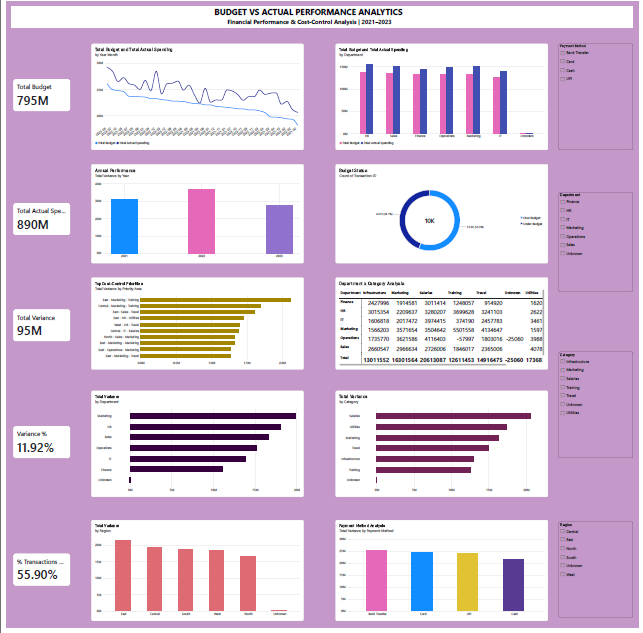

The page's visual inventory and layout, read from the dashboard file:
{"tool":"powerbi","page":{"name":"Page 1","canvas":[2855,2830],"ordinal":0},"visuals":[{"type":"textbox","box":[24,24,2808,96],"z":0},{"type":"cardVisual","fields":{"Data":["Budget_vs_Actual_Cleaned.Total Budget"]},"box":[32,352,256,144],"z":1000},{"type":"cardVisual","fields":{"Data":["Budget_vs_Actual_Cleaned.Total Actual Spending"]},"box":[32,912,256,144],"z":2000},{"type":"cardVisual","fields":{"Data":["Budget_vs_Actual_Cleaned.Total Variance"]},"box":[32,1392,256,144],"z":3000},{"type":"cardVisual","fields":{"Data":["Budget_vs_Actual_Cleaned.Variance %"]},"box":[32,1920,256,144],"z":4000},{"type":"cardVisual","fields":{"Data":["Budget_vs_Actual_Cleaned.% Transactions Over Budget"]},"box":[32,2496,256,144],"z":5000},{"type":"slicer","fields":{"Values":["Budget_vs_Actual_Cleaned.Department"]},"box":[2496,864,336,448],"z":6000},{"type":"slicer","fields":{"Values":["Budget_vs_Actual_Cleaned.Category"]},"box":[2496,1584,336,480],"z":7000},{"type":"slicer","fields":{"Values":["Budget_vs_Actual_Cleaned.Region"]},"box":[2496,2352,336,432],"z":8000},{"type":"slicer","fields":{"Values":["Budget_vs_Actual_Cleaned.Payment Method"]},"box":[2496,192,336,480],"z":9000},{"type":"lineChart","fields":{"Category":["DateTable.Year Month"],"Y":["Budget_vs_Actual_Cleaned.Total Budget","Budget_vs_Actual_Cleaned.Total Actual Spending"]},"box":[384,192,960,480],"z":10000},{"type":"clusteredBarChart","fields":{"Category":["Budget_vs_Actual_Cleaned.Department"],"Y":["Budget_vs_Actual_Cleaned.Total Variance"]},"box":[384,1760,960,480],"z":11000},{"type":"clusteredBarChart","fields":{"Category":["Budget_vs_Actual_Cleaned.Category"],"Y":["Budget_vs_Actual_Cleaned.Total Variance"]},"box":[1488,1760,960,480],"z":12000},{"type":"clusteredColumnChart","fields":{"Category":["Budget_vs_Actual_Cleaned.Department"],"Y":["Budget_vs_Actual_Cleaned.Total Budget","Budget_vs_Actual_Cleaned.Total Actual Spending"]},"box":[1488,192,960,480],"z":13000},{"type":"clusteredColumnChart","fields":{"Category":["Budget_vs_Actual_Cleaned.Region"],"Y":["Budget_vs_Actual_Cleaned.Total Variance"]},"box":[384,2344,960,456],"z":14000},{"type":"pivotTable","title":"Department x Category  Analysis","fields":{"Columns":["Budget_vs_Actual_Cleaned.Category"],"Rows":["Budget_vs_Actual_Cleaned.Department"],"Values":["Budget_vs_Actual_Cleaned.Total Variance"]},"box":[1488,1248,960,416],"z":15000},{"type":"barChart","title":"Top Cost-Control Priorities","fields":{"Category":["Budget_vs_Actual_Cleaned.Priority Area"],"Y":["Budget_vs_Actual_Cleaned.Total Variance"]},"box":[384,1248,960,416],"z":16000},{"type":"clusteredColumnChart","title":"Annual Performance","fields":{"Category":["DateTable.Year"],"Y":["Budget_vs_Actual_Cleaned.Total Variance"]},"box":[384,736,960,448],"z":17000},{"type":"donutChart","title":"Budget Status","fields":{"Category":["Budget_vs_Actual_Cleaned.Budget Status"],"Y":["CountNonNull(Budget_vs_Actual_Cleaned.Transaction ID)"]},"box":[1488,736,960,448],"z":18000},{"type":"clusteredColumnChart","title":"Payment Method Analysis","fields":{"Category":["Budget_vs_Actual_Cleaned.Payment Method"],"Y":["Budget_vs_Actual_Cleaned.Total Variance"]},"box":[1488,2344,960,456],"z":19000}]}

Visuals, with their boxes in screenshot pixels (x1, y1, x2, y2), scaled from the page's 2855x2830 canvas onto the 643x633 screenshot:
textbox: bbox=[5, 5, 638, 27]
cardVisual - Budget_vs_Actual_Cleaned.Total Budget: bbox=[7, 79, 65, 111]
cardVisual - Budget_vs_Actual_Cleaned.Total Actual Spending: bbox=[7, 204, 65, 236]
cardVisual - Budget_vs_Actual_Cleaned.Total Variance: bbox=[7, 311, 65, 344]
cardVisual - Budget_vs_Actual_Cleaned.Variance %: bbox=[7, 429, 65, 462]
cardVisual - Budget_vs_Actual_Cleaned.% Transactions Over Budget: bbox=[7, 558, 65, 591]
slicer - Budget_vs_Actual_Cleaned.Department: bbox=[562, 193, 638, 293]
slicer - Budget_vs_Actual_Cleaned.Category: bbox=[562, 354, 638, 462]
slicer - Budget_vs_Actual_Cleaned.Region: bbox=[562, 526, 638, 623]
slicer - Budget_vs_Actual_Cleaned.Payment Method: bbox=[562, 43, 638, 150]
lineChart - DateTable.Year Month x Budget_vs_Actual_Cleaned.Total Budget: bbox=[86, 43, 303, 150]
clusteredBarChart - Budget_vs_Actual_Cleaned.Department x Budget_vs_Actual_Cleaned.Total Variance: bbox=[86, 394, 303, 501]
clusteredBarChart - Budget_vs_Actual_Cleaned.Category x Budget_vs_Actual_Cleaned.Total Variance: bbox=[335, 394, 551, 501]
clusteredColumnChart - Budget_vs_Actual_Cleaned.Department x Budget_vs_Actual_Cleaned.Total Budget: bbox=[335, 43, 551, 150]
clusteredColumnChart - Budget_vs_Actual_Cleaned.Region x Budget_vs_Actual_Cleaned.Total Variance: bbox=[86, 524, 303, 626]
"Department x Category  Analysis" pivotTable: bbox=[335, 279, 551, 372]
"Top Cost-Control Priorities" barChart: bbox=[86, 279, 303, 372]
"Annual Performance" clusteredColumnChart: bbox=[86, 165, 303, 265]
"Budget Status" donutChart: bbox=[335, 165, 551, 265]
"Payment Method Analysis" clusteredColumnChart: bbox=[335, 524, 551, 626]
